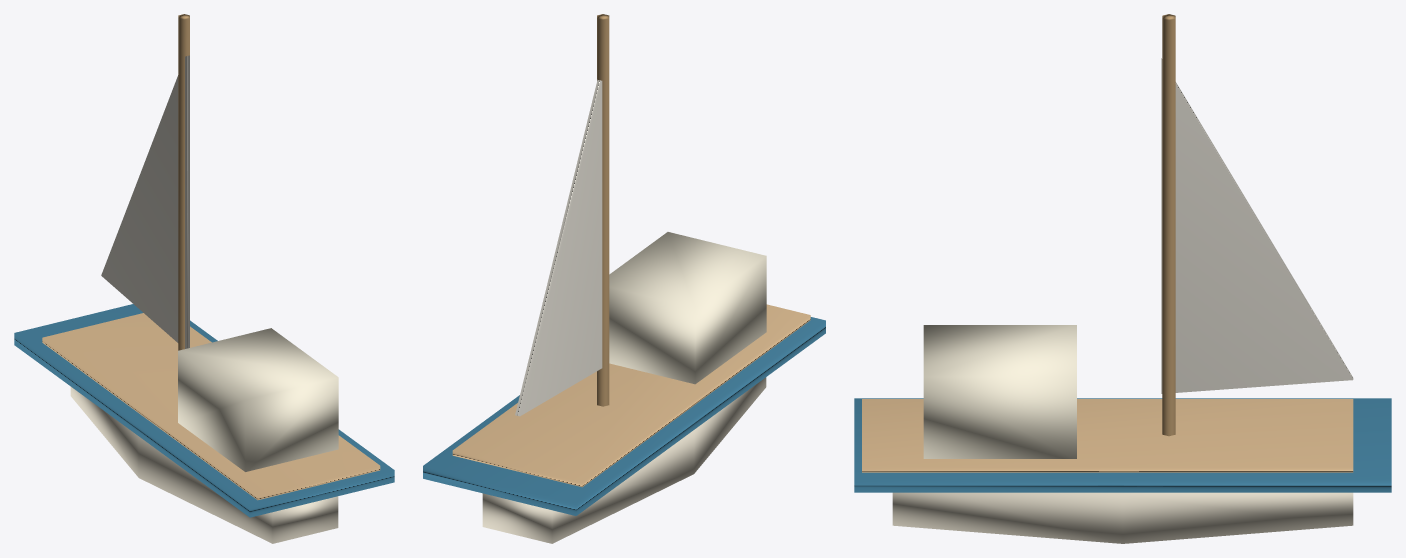
File: boat_low.glb
3 views of the same model, side by side, from view 1: azimuth 30°, elevation 25°; view 2: azimuth 150°, elevation 25°; view 3: azimuth 270°, elevation 25° (orthographic). The views are drawn at different scales.
Size of the model in its own units: 1.24 by 3.65 by 3.5.
